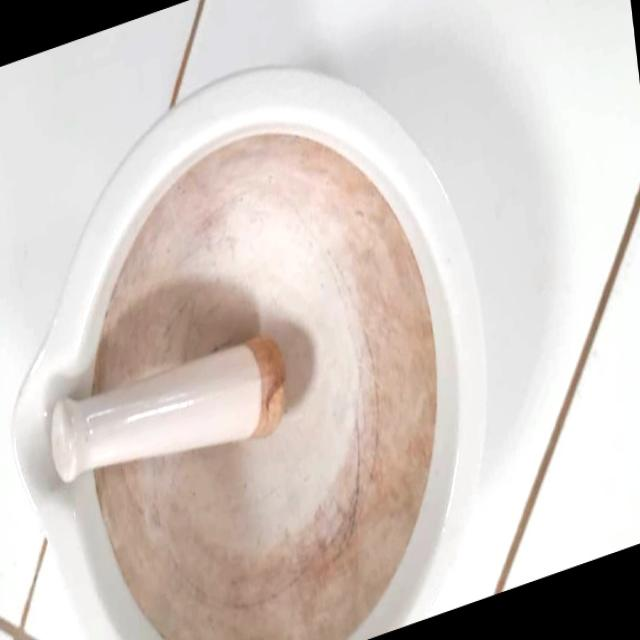Mortar and Pestle: (0, 0, 520, 640)
